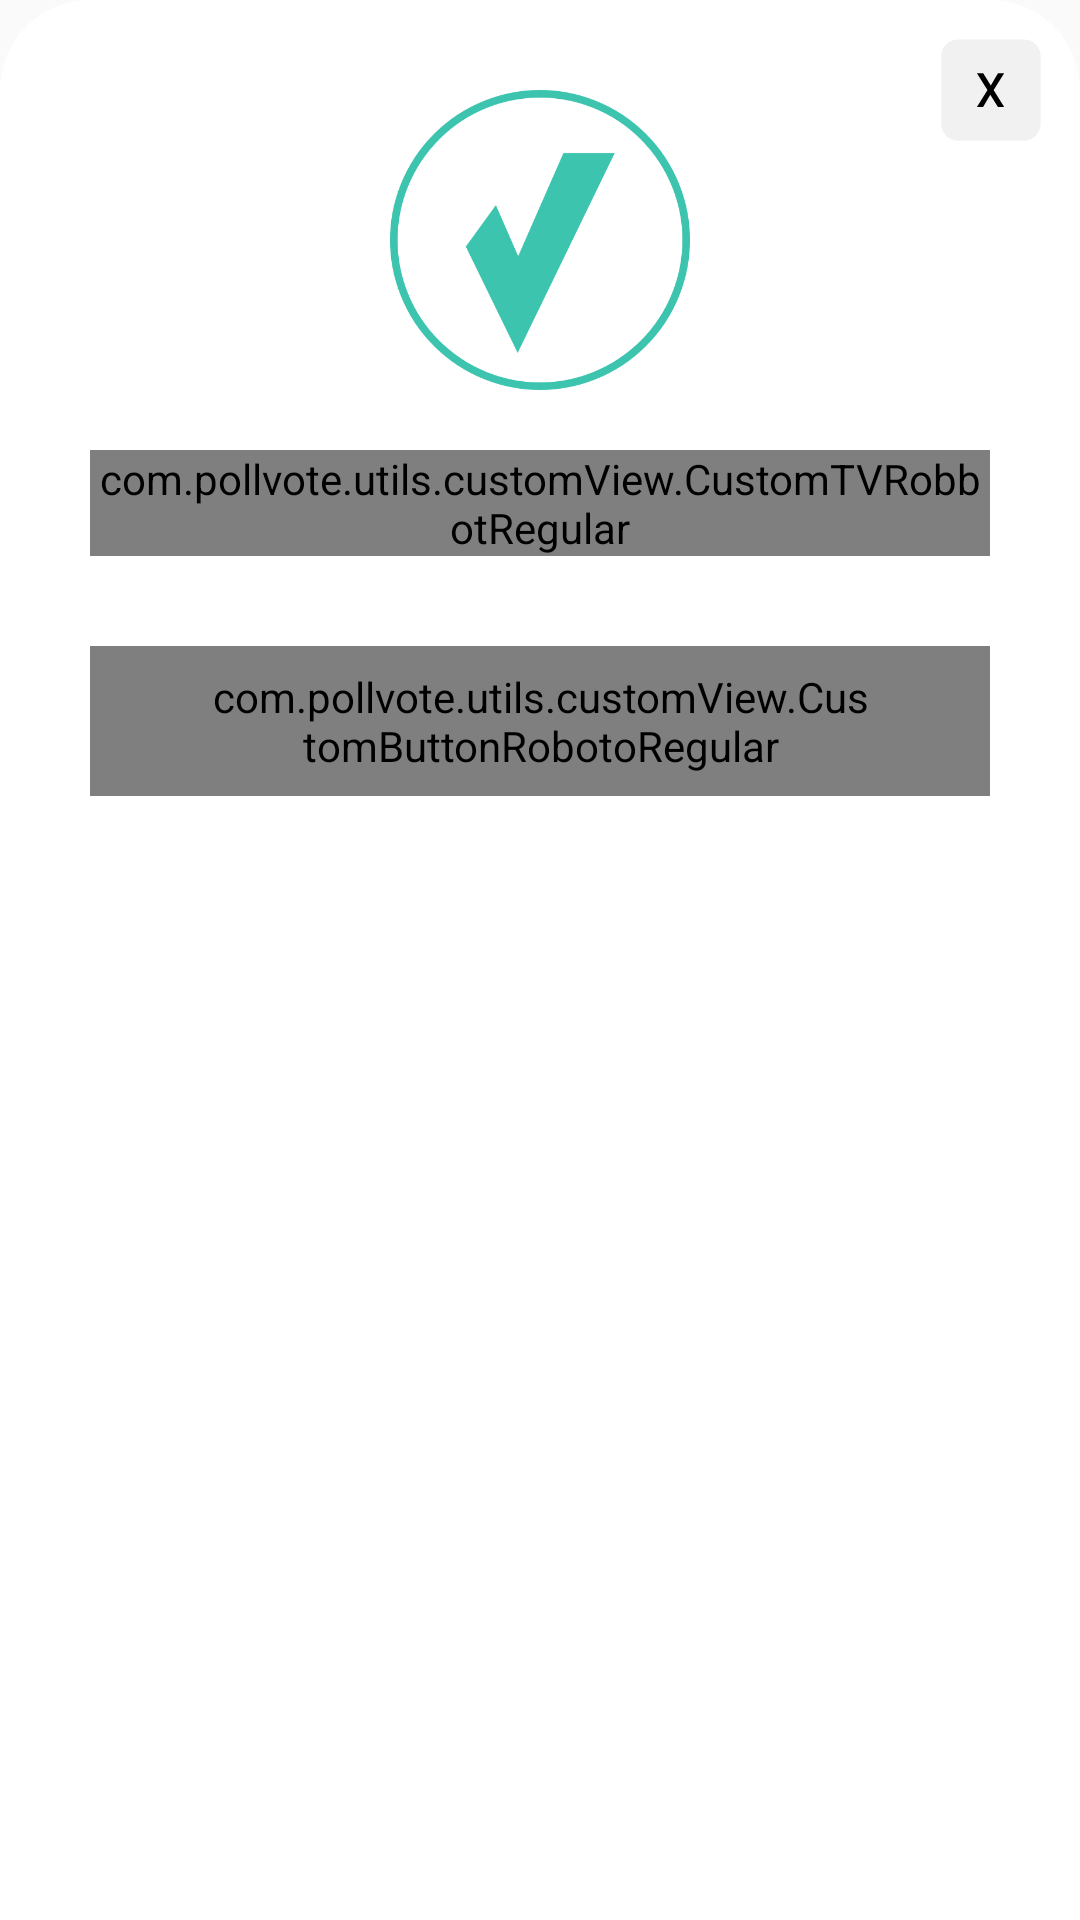

Named icons in this screenshot (1080x1920) and their bounding boxes, bbox(x1, y1, x2, y2):
cross: bbox(941, 40, 1041, 141)
validate: bbox(390, 90, 690, 390)
